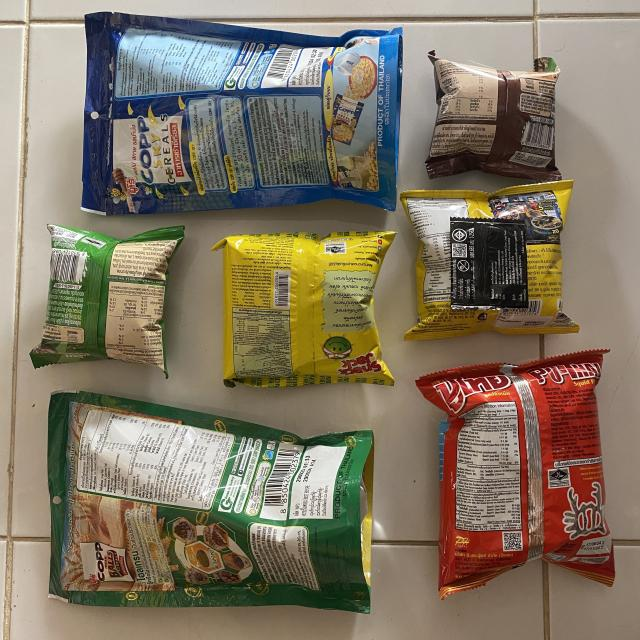plastik: (48, 391, 374, 612), (81, 12, 402, 215), (416, 350, 615, 598), (212, 231, 395, 388), (400, 180, 579, 340), (30, 224, 184, 378), (426, 51, 561, 181)
